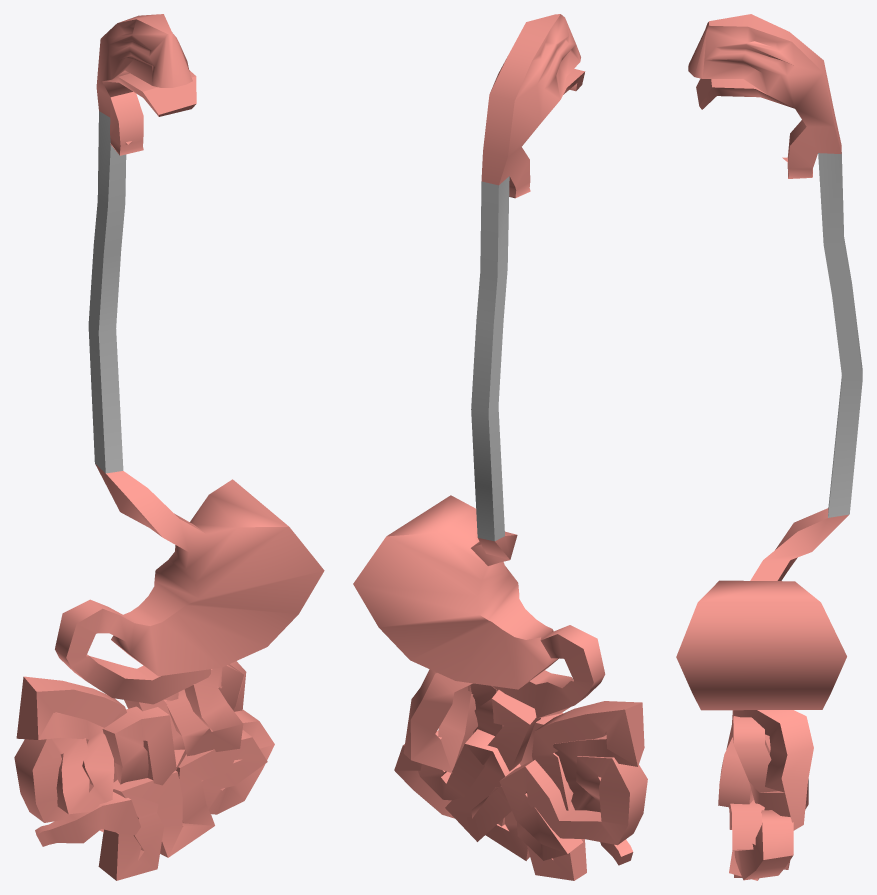
The model's file is Anatomy_Digestive.obj.
The picture shows the model from 3 angles, left to right: view 1: azimuth 30°, elevation 25°; view 2: azimuth 150°, elevation 25°; view 3: azimuth 270°, elevation 25°; orthographic projection.
Parts seen in each view (by area): view 1: Digestive; view 2: Digestive; view 3: Digestive.
Boxes of the visible parts, x1=… form: Digestive: x1=14, y1=14, x2=324, y2=880; Digestive: x1=353, y1=14, x2=647, y2=880; Digestive: x1=676, y1=14, x2=862, y2=880.
Size of the model in its own units: 21.79 by 69.2 by 13.62.
